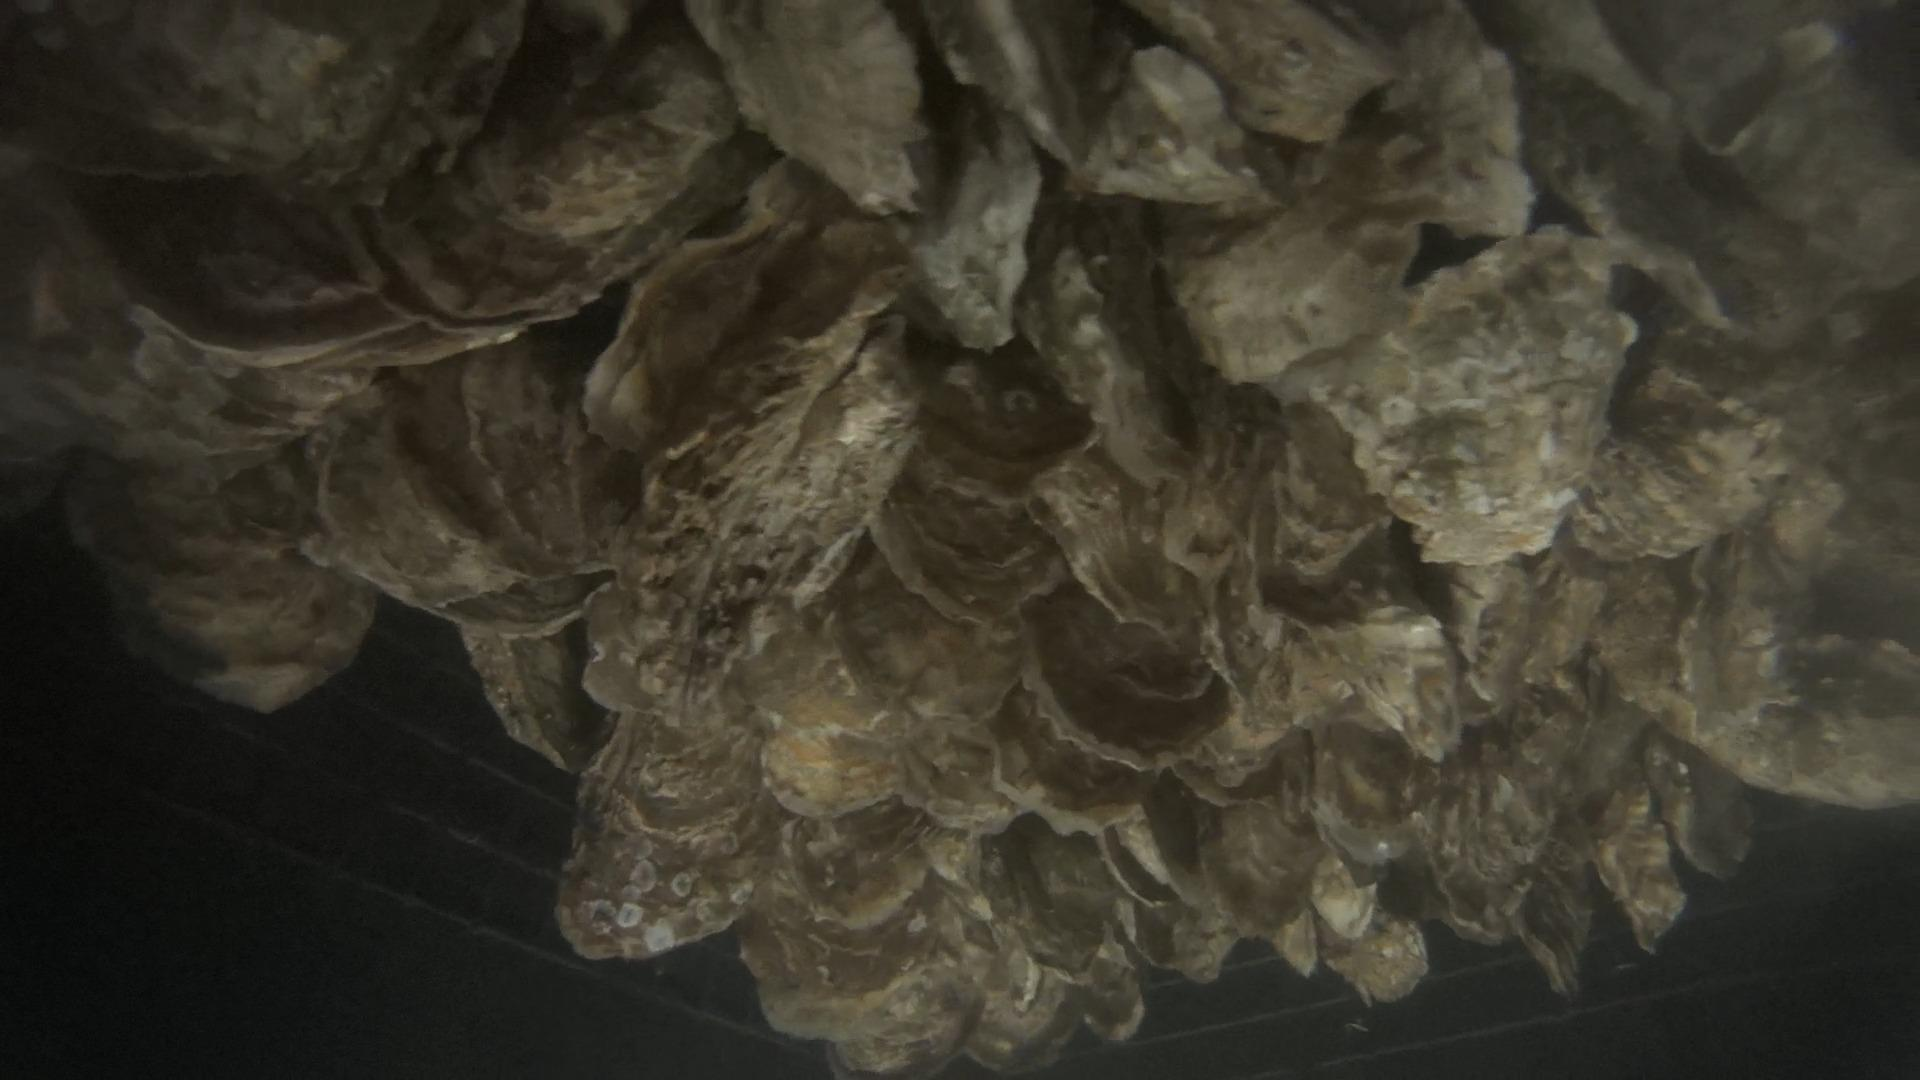3: (607, 227, 916, 680)
Oyster- Indeterminate: (1308, 233, 1614, 566), (66, 421, 376, 713), (1684, 484, 1920, 800), (691, 0, 927, 218), (554, 717, 760, 965)
